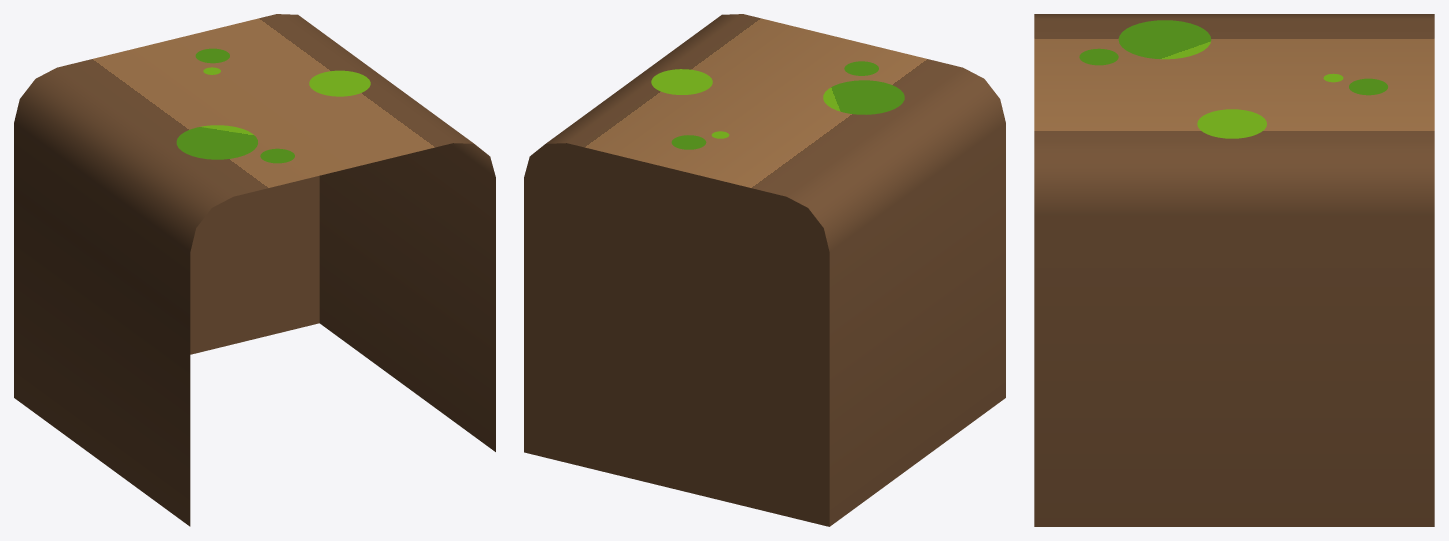
The model's file is GROUND_with_leafs.fbx.
3 renders of one model, left to right at view 1: azimuth 30°, elevation 25°; view 2: azimuth 150°, elevation 25°; view 3: azimuth 270°, elevation 25°, orthographic. The views are drawn at different scales.
Parts seen in each view (by area): view 1: Cube.002; view 2: Cube.002; view 3: Cube.002.
Part boxes in pixels (box(x1,y1,x2,y2)): Cube.002: box(14, 14, 495, 526); Cube.002: box(524, 14, 1005, 526); Cube.002: box(1034, 14, 1434, 526).
Size of the model in its own units: 100 by 101 by 100.
